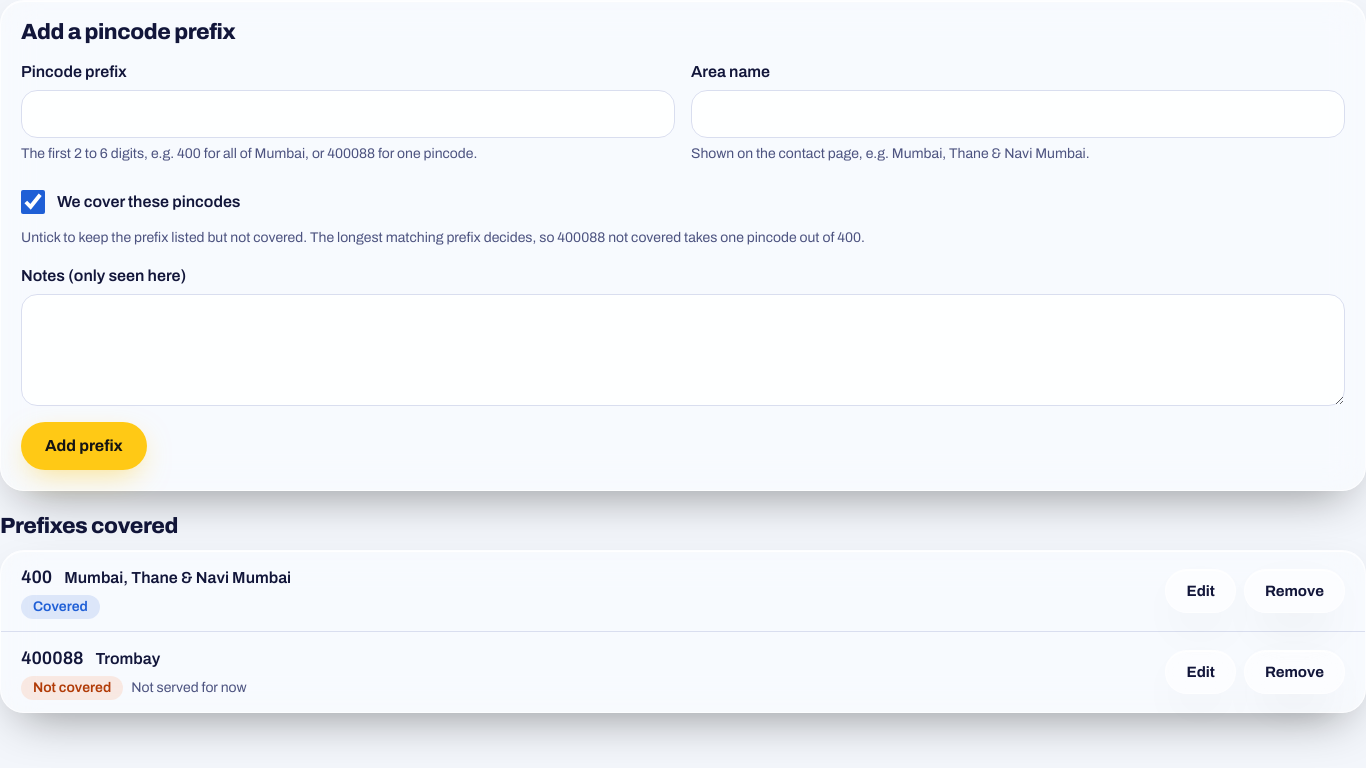
AreasEditor › an existing prefix cannot be added twice (use Edit instead)
Type "400" into the field labelled "Pincode prefix" at (348, 114), box [21, 90, 675, 138]
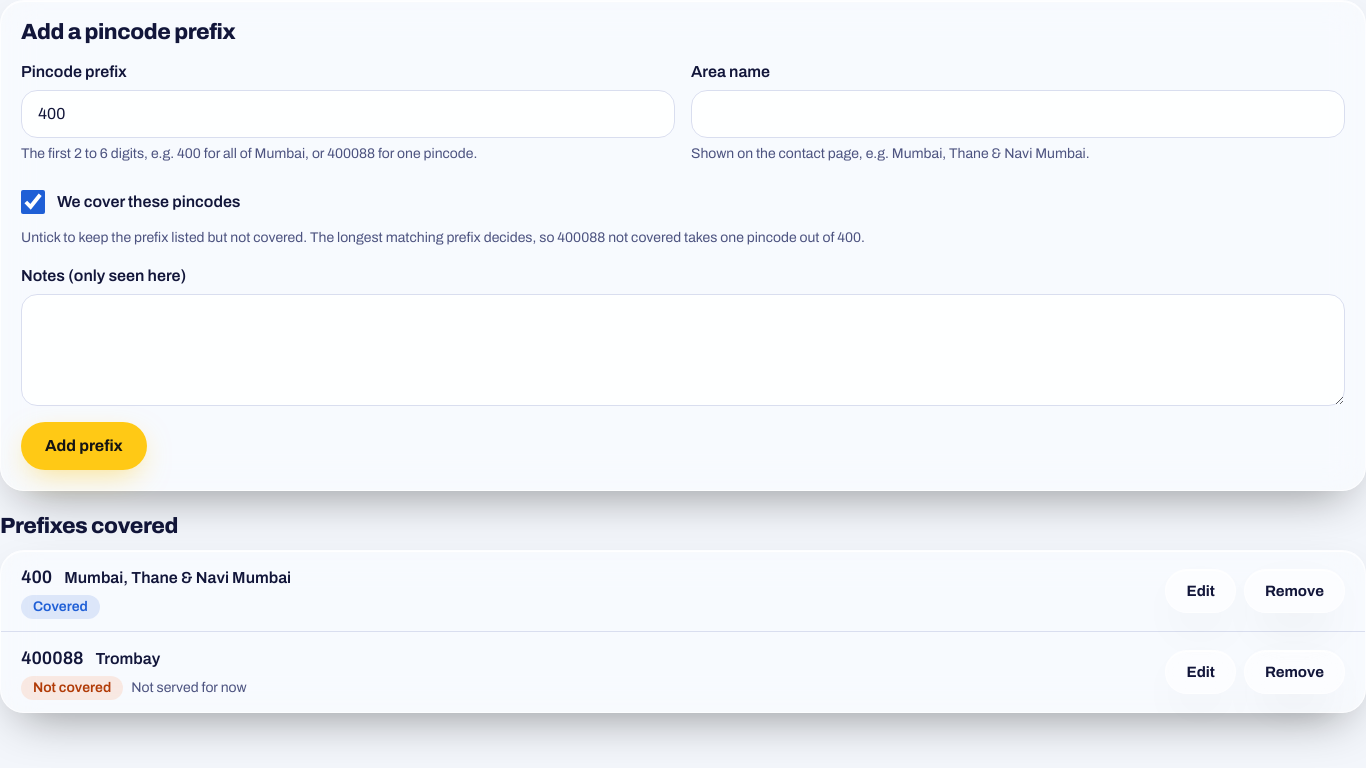
Type "Mumbai" into the field labelled "Area name" at (1018, 114), box [691, 90, 1345, 138]
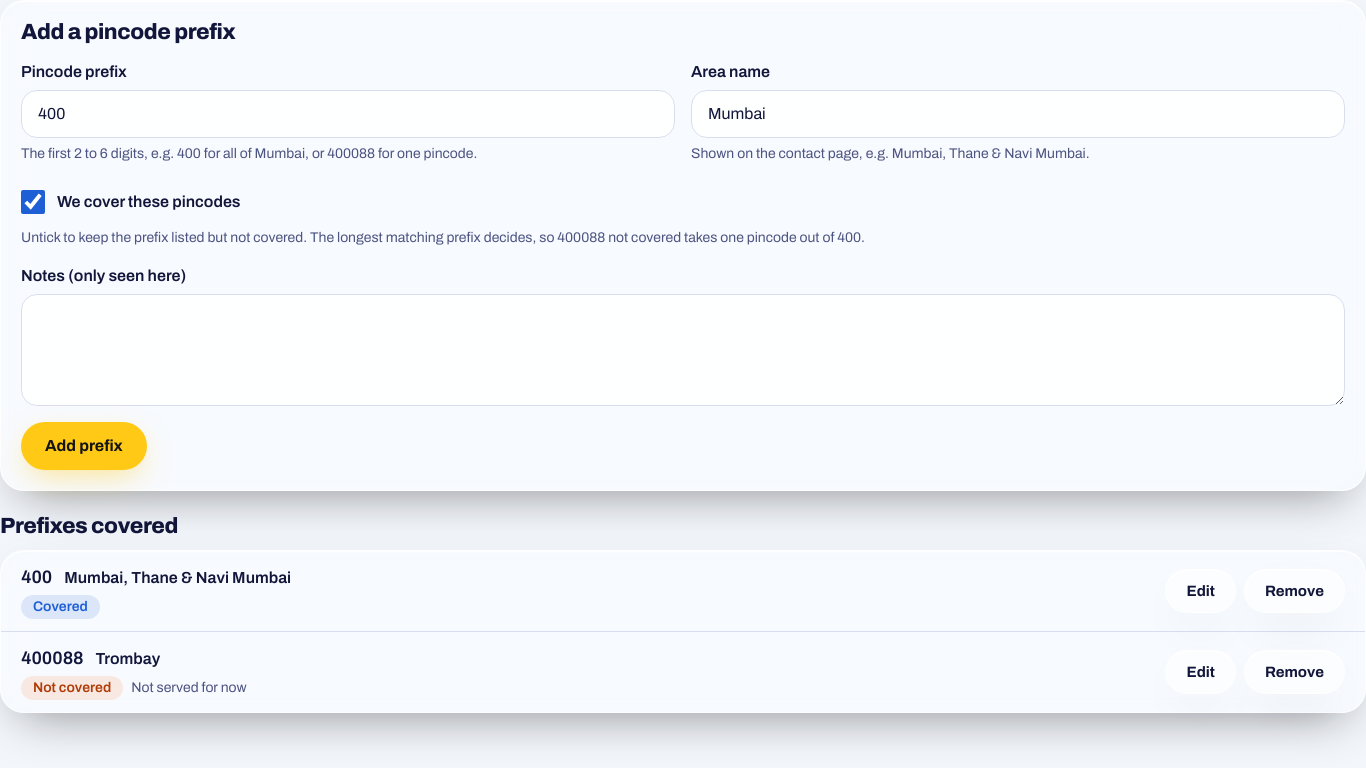
Click the button "Add prefix" at (84, 446), box [21, 422, 147, 470]
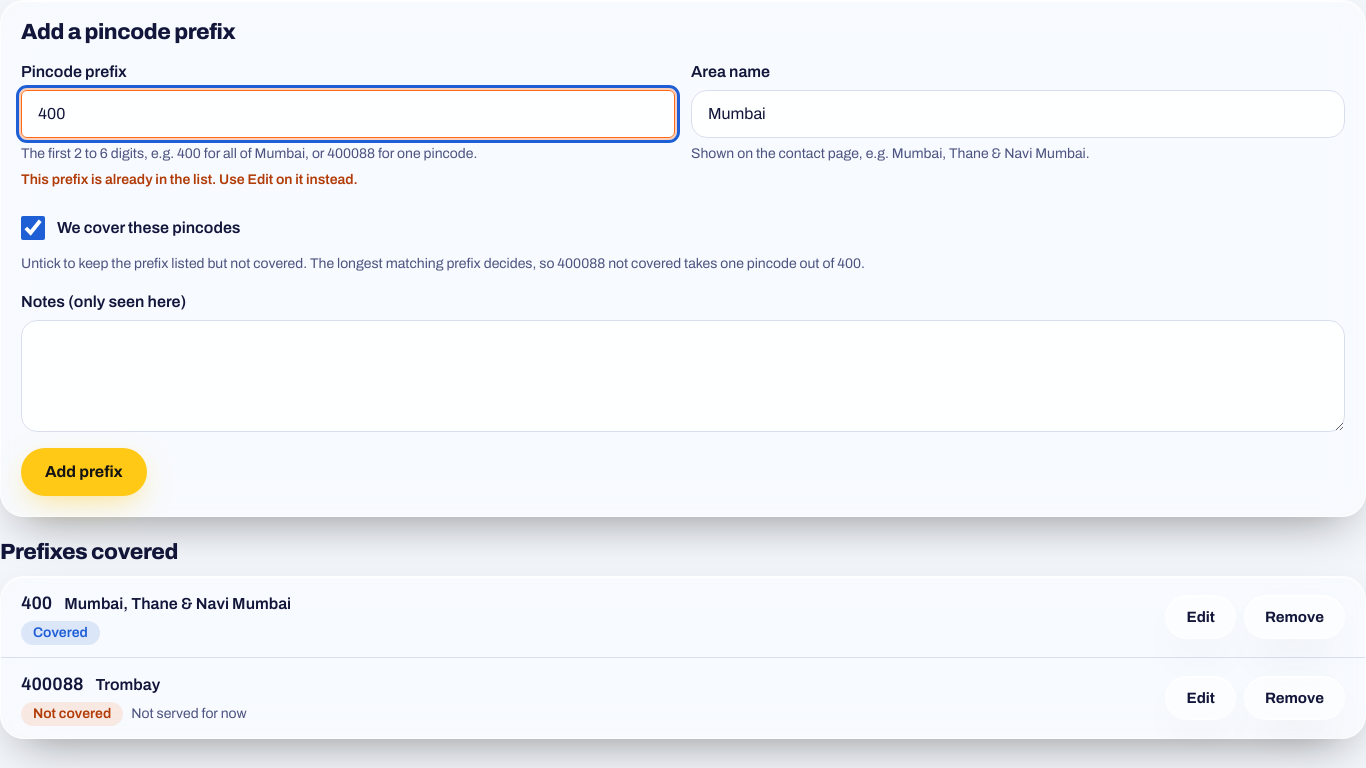
Now the text "This prefix is already in the list. Use Edit on it instead." is shown, box [21, 172, 358, 187]
